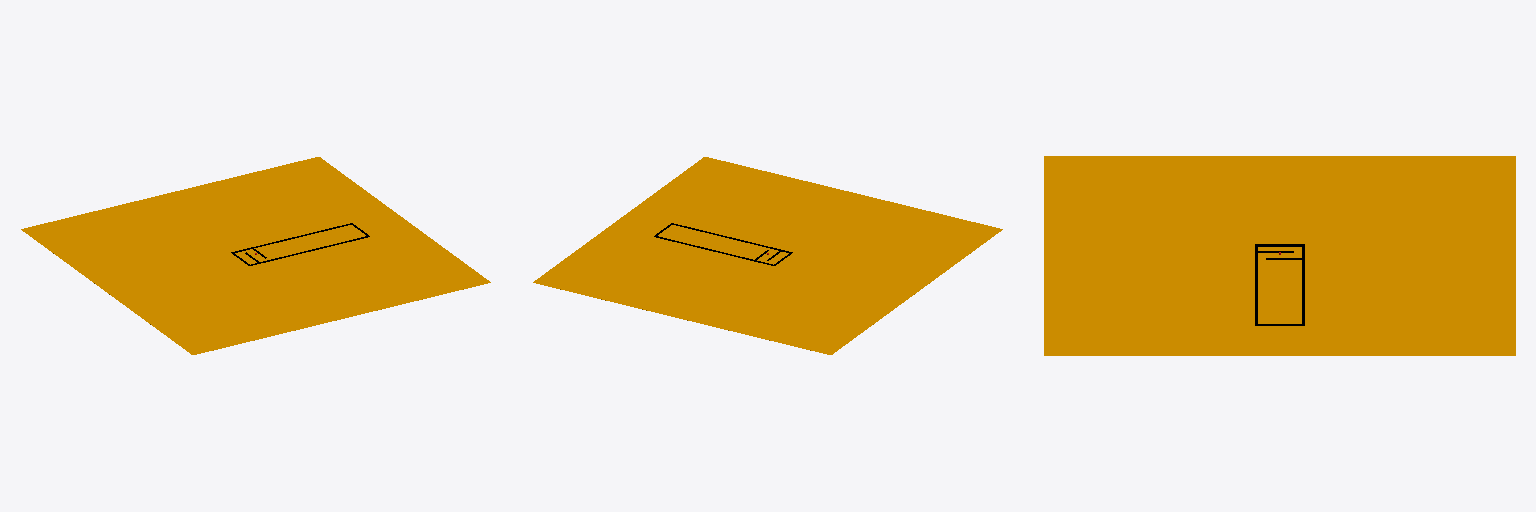
robot.urdf — robot:
<?xml version="1.0" encoding="utf-8"?>

<robot name="robot">

    <material name="black">
        <color rgba="0 0 0 1"/>
    </material>
    <material name="red">
        <color rgba="0.8 0.1 0.1 1"/>
    </material>
    <material name="green">
        <color rgba="0.1 0.9 0.1 1"/>
    </material>
    <material name="white">
        <color rgba="1 1 1 1"/>
    </material>

    <link name="base_link">
        <origin rpy="0.0 0.0 0.0" xyz="0 0 0.00"/>
        <visual>
            <!-- <origin rpy="0.0 0.0 0.0" xyz="0.0 0.0 0.0"/> -->
            <geometry>
                <box size="10 10 0.001"/>
            </geometry>
        </visual>
    </link>

    <!-- <link name="maze">
        <visual>
            <origin rpy="0.0 0.0 0.0" xyz="0.0 0.0 0.0"/>
            <geometry>
                <mesh filename="package://maze/urdf/meshes/maze.stl"/>
            </geometry>
        </visual>
        <collision>
            <origin rpy="0.0 0.0 0.0" xyz="0.0 0.0 0.0"/>
            <geometry>
                <mesh filename="package://maze/urdf/meshes/maze.stl"/>
            </geometry>
        </collision>
        <inertial>
            <mass value="10000"/>
            <inertia ixx="100"  ixy="0"  ixz="0" iyy="100" iyz="0" izz="100" />
        </inertial>
    </link> -->

    <link name="wall_left">
        <visual>
            <origin rpy="0.0 0.0 0.0" xyz="0.0 0.0 0.0"/>
            <geometry>
                <box size="0.05 1.05 0.05"/>
            </geometry>
            <material name="black"/>
        </visual>
        <collision>
            <origin rpy="0.0 0.0 0.0" xyz="0.0 0.0 0.0"/>
            <geometry>
                <box size="0.05 1 0.15"/>
            </geometry>
        </collision>
        <inertial>
            <mass value="10000"/>
            <inertia ixx="100"  ixy="0"  ixz="0" iyy="100" iyz="0" izz="100" />
        </inertial>
    </link>

    <joint name="base_to_wall_left" type="fixed">
        <parent link="base_link"/>
        <child link="wall_left"/>
        <origin rpy="0 0 0" xyz="-0.5 0 0"/>
    </joint>


    <link name="wall_right">
        <visual>
            <origin rpy="0.0 0.0 0.0" xyz="0.0 0.0 0.0"/>
            <geometry>
                <box size="0.05 1.05 0.05"/>
            </geometry>
            <material name="black"/>
        </visual>
        <collision>
            <origin rpy="0.0 0.0 0.0" xyz="0.0 0.0 0.0"/>
            <geometry>
                <box size="0.05 1 0.15"/>
            </geometry>
        </collision>
        <inertial>
            <mass value="10000"/>
            <inertia ixx="100"  ixy="0"  ixz="0" iyy="100" iyz="0" izz="100" />
        </inertial>
    </link>

    <joint name="base_to_wall_right" type="fixed">
        <parent link="base_link"/>
        <child link="wall_right"/>
        <origin rpy="0 0 0" xyz="3.5 0 0"/>
    </joint>


     <link name="wall_top">
        <visual>
            <origin rpy="0.0 0.0 0.0" xyz="0.0 0.0 0.0"/>
            <geometry>
                <box size="4.0 0.05 0.05"/>
            </geometry>
            <material name="black"/>
        </visual>
        <collision>
            <origin rpy="0.0 0.0 0.0" xyz="0.0 0.0 0.0"/>
            <geometry>
                <box size="4.0 0.05 0.15"/>
            </geometry>
        </collision>
        <inertial>
            <mass value="10000"/>
            <inertia ixx="100"  ixy="0"  ixz="0" iyy="100" iyz="0" izz="100" />
        </inertial>
    </link>

    <joint name="base_to_wall_top" type="fixed">
        <parent link="base_link"/>
        <child link="wall_top"/>
        <origin rpy="0 0 0" xyz="1.5 0.5 0"/>
    </joint>

    <link name="wall_bottom">
        <visual>
            <origin rpy="0.0 0.0 0.0" xyz="0.0 0.0 0.0"/>
            <geometry>
                <box size="4.0 0.05 0.05"/>
            </geometry>
            <material name="black"/>
        </visual>
        <collision>
            <origin rpy="0.0 0.0 0.0" xyz="0.0 0.0 0.0"/>
            <geometry>
                <box size="4.0 0.05 0.15"/>
            </geometry>
        </collision>
        <inertial>
            <mass value="10000"/>
            <inertia ixx="100"  ixy="0"  ixz="0" iyy="100" iyz="0" izz="100" />
        </inertial>
    </link>

    <joint name="base_to_wall_bottom" type="fixed">
        <parent link="base_link"/>
        <child link="wall_bottom"/>
        <origin rpy="0 0 0" xyz="1.5 -0.5 0"/>
    </joint>


    <link name="obs_left">
        <visual>
            <origin rpy="0.0 0.0 0.0" xyz="0.0 0.0 0.0"/>
            <geometry>
                <box size="0.05 0.8 0.05"/>
            </geometry>
            <material name="black"/>
        </visual>
        <collision>
            <origin rpy="0.0 0.0 0.0" xyz="0.0 0.0 0.0"/>
            <geometry>
                <box size="0.05 0.80 0.15"/>
            </geometry>
        </collision>
        <inertial>
            <mass value="10000"/>
            <inertia ixx="100"  ixy="0"  ixz="0" iyy="100" iyz="0" izz="100" />
        </inertial>
    </link>

    <joint name="base_to_obs_left" type="fixed">
        <parent link="base_link"/>
        <child link="obs_left"/>
        <origin rpy="0 0 0" xyz="-0.16666 -0.1 0"/>
    </joint>

    <link name="obs_right">
        <visual>
            <origin rpy="0.0 0.0 0.0" xyz="0.0 0.0 0.0"/>
            <geometry>
                <box size="0.05 0.8 0.05"/>
            </geometry>
            <material name="black"/>
        </visual>
        <collision>
            <origin rpy="0.0 0.0 0.0" xyz="0.0 0.0 0.0"/>
            <geometry>
                <box size="0.05 0.80 0.15"/>
            </geometry>
        </collision>
        <inertial>
            <mass value="10000"/>
            <inertia ixx="100"  ixy="0"  ixz="0" iyy="100" iyz="0" izz="100" />
        </inertial>
    </link>

    <joint name="base_to_obs_right" type="fixed">
        <parent link="base_link"/>
        <child link="obs_right"/>
        <origin rpy="0 0 0" xyz="0.16666 0.1 0"/>
    </joint>

    <link name="bot_x">
        <origin rpy="0.0 0.0 0.0" xyz="0.0 0.0 0.0"/>
    </link>

    <link name="bot">
        <visual>
            <origin rpy="0.0 0.0 0.0" xyz="0 0 0.03"/>
            <geometry>
                <cylinder radius="0.02" length="0.05"/>
            </geometry>
            <material name="red"/>
        </visual>
        <collision>
            <origin rpy="0.0 0.0 0.0" xyz="0 0 0.03"/>
            <geometry>
                <cylinder radius="0.02" length="0.05"/>
            </geometry>
        </collision>
        <inertial>
            <origin xyz="0 0 0" rpy="0 0 0"/>
            <mass value="0.2"/>
        </inertial>
    </link>

    <joint name="base_to_bot_x" type="prismatic">
        <parent link="base_link"/>
        <child link="bot_x"/>
        <origin rpy="0 0 0" xyz="0 0 0.01"/>
        <axis xyz="1 0 0"/>
        <limit lower="-0.4" upper="3.4"/>
    </joint>

    <joint name="bot_x_to_bot" type="prismatic">
        <parent link="bot_x"/>
        <child link="bot"/>
        <origin rpy="0 0 0" xyz="0 0 0.01"/>
        <axis xyz="0 1 0"/>
        <limit lower="-0.4" upper="0.4"/>
    </joint>

    <!-- <link name="goal">
        <visual>
            <origin rpy="0.0 0.0 0.0" xyz="0 0 0.03"/>
            <geometry>
                <cylinder radius="0.05" length="0.05"/>
            </geometry>
            <material name="green"/>
        </visual>
    </link>


    <joint name="base_to_goal" type="fixed">
        <parent link="base_link"/>
        <child link="goal"/>
        <origin rpy="0 0 0" xyz="0.35 -0.4 0.01"/>
        <axis xyz="0 1 0"/>
    </joint> -->

</robot>

--- Render facts (derived) ---
3 views of the same robot in one strip: view 1: azimuth 30°, elevation 25°; view 2: azimuth 150°, elevation 25°; view 3: azimuth 270°, elevation 25° (orthographic).
Robot: robot — 9 links, 8 joints (2 prismatic, 6 fixed); root link base_link; default pose: all joints at 0.
Visible links, largest first — view 1: base_link; view 2: base_link; view 3: base_link.
Link boxes in pixels (x1,y1,x2,y2): base_link: (21, 157, 490, 354); base_link: (533, 157, 1002, 354); base_link: (1044, 156, 1515, 355).
Size in the robot's own frame: 10 by 10 by 0.1 metres.
Geometry: primitives only (box / cylinder / sphere), no mesh files.